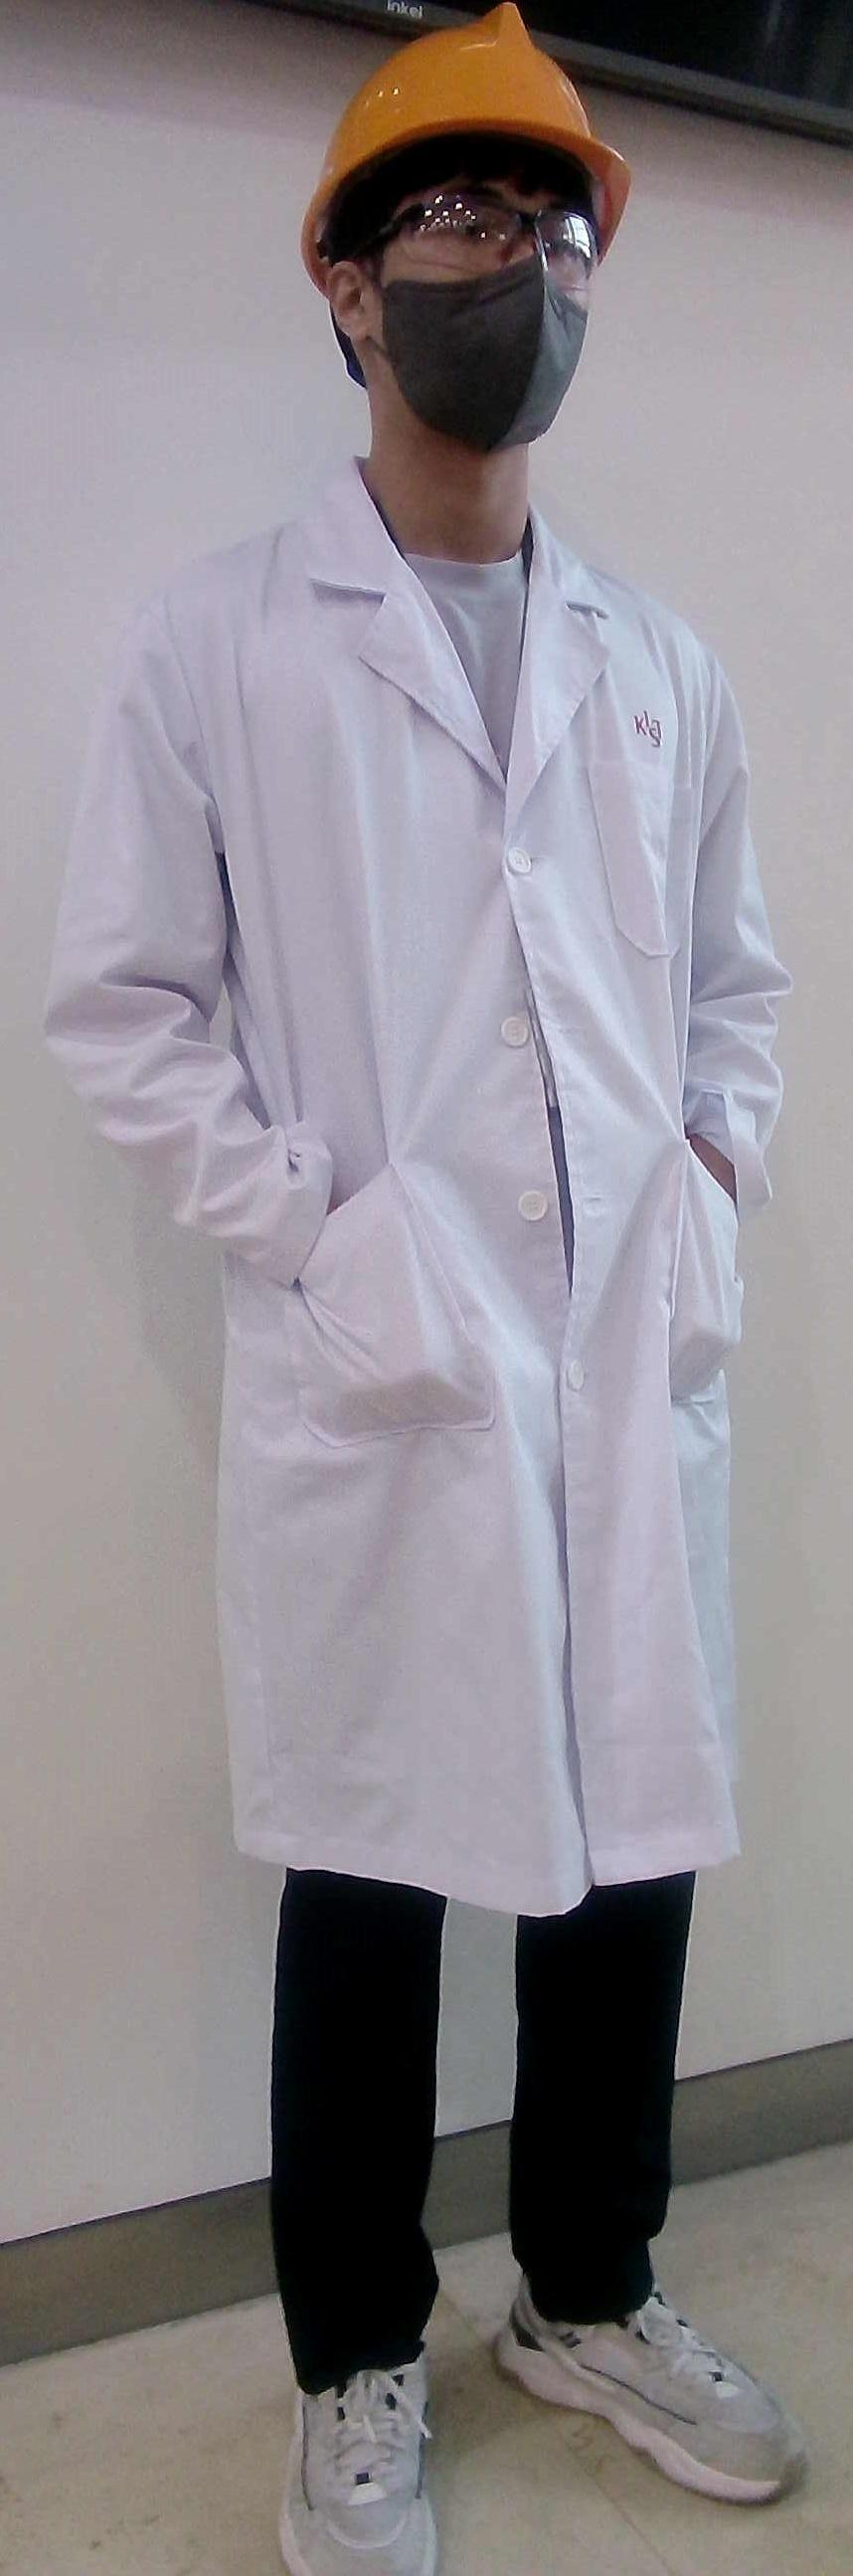lab_coat: (51, 540, 794, 1916)
